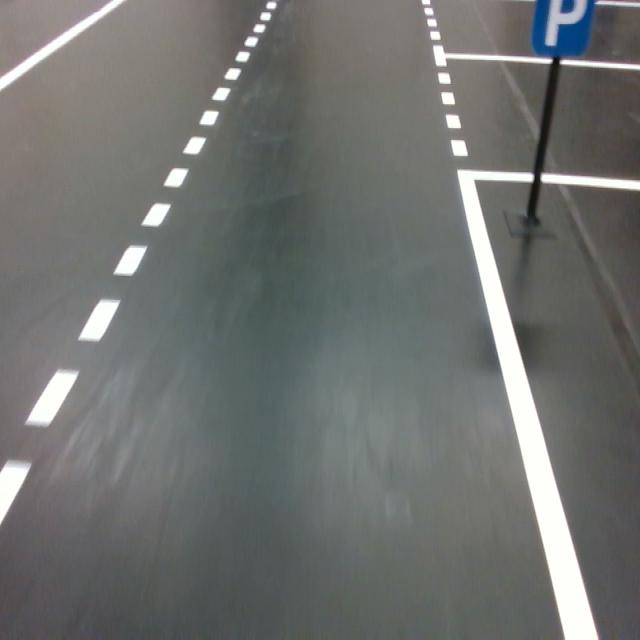parking-sign: (530, 0, 597, 57)
